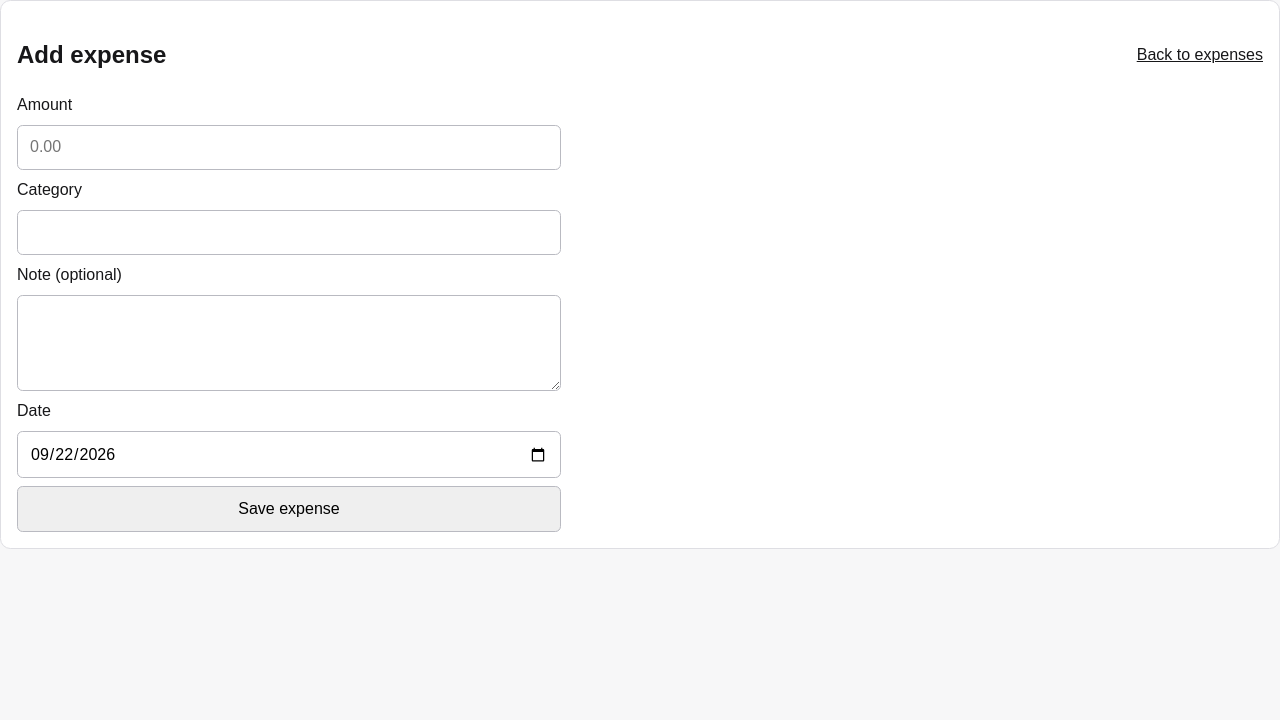
Test case: ExpenseForm › maps backend general and field errors
The width and height of the screenshot is (1280, 720).
Type "999999999999999.00" into the field labelled "Amount" at [289, 147], box [17, 125, 561, 170]
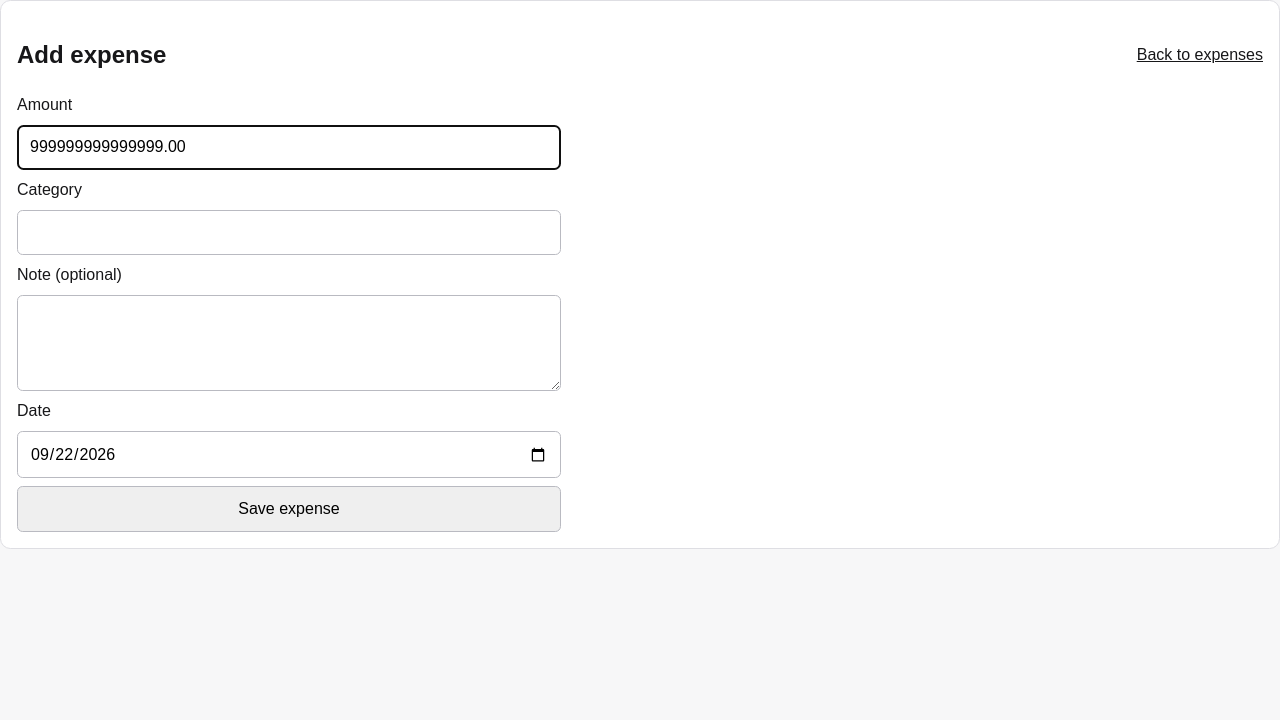
Type "Food" into the field labelled "Category" at [289, 233], box [17, 210, 561, 255]
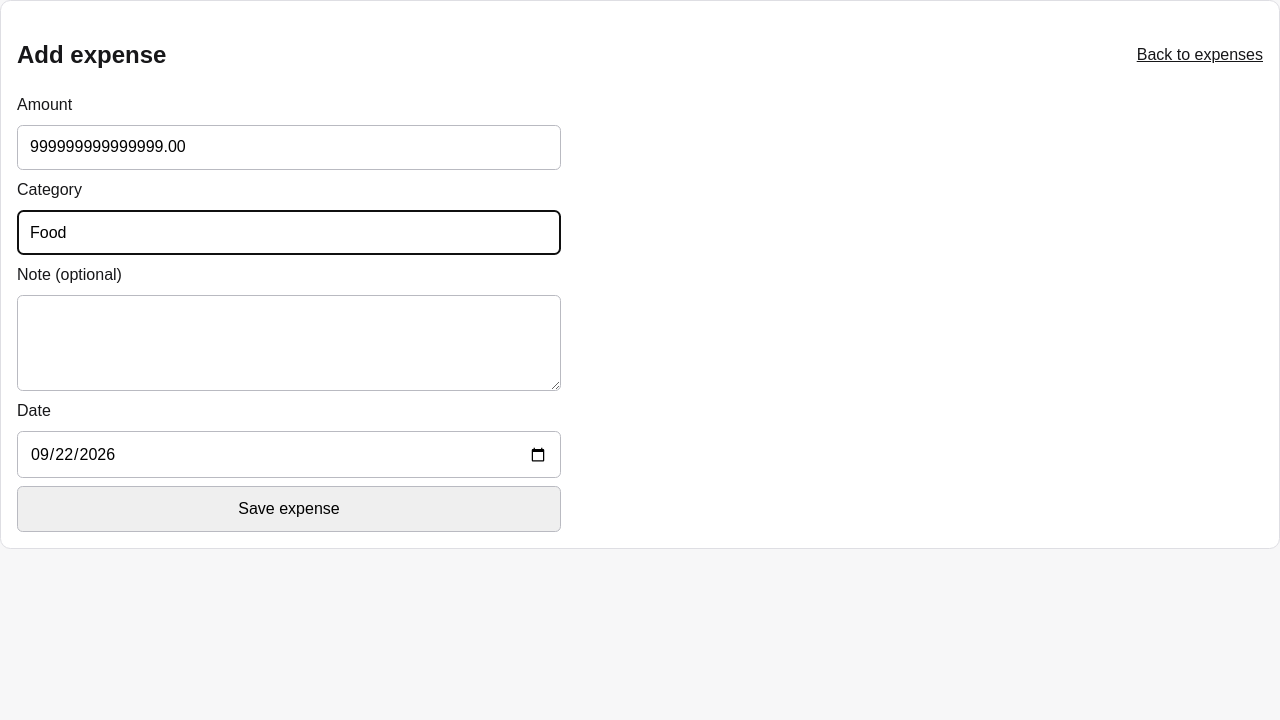
Type "Lunch" into the text box labelled "Note (optional)" at [289, 343], box [17, 295, 561, 391]
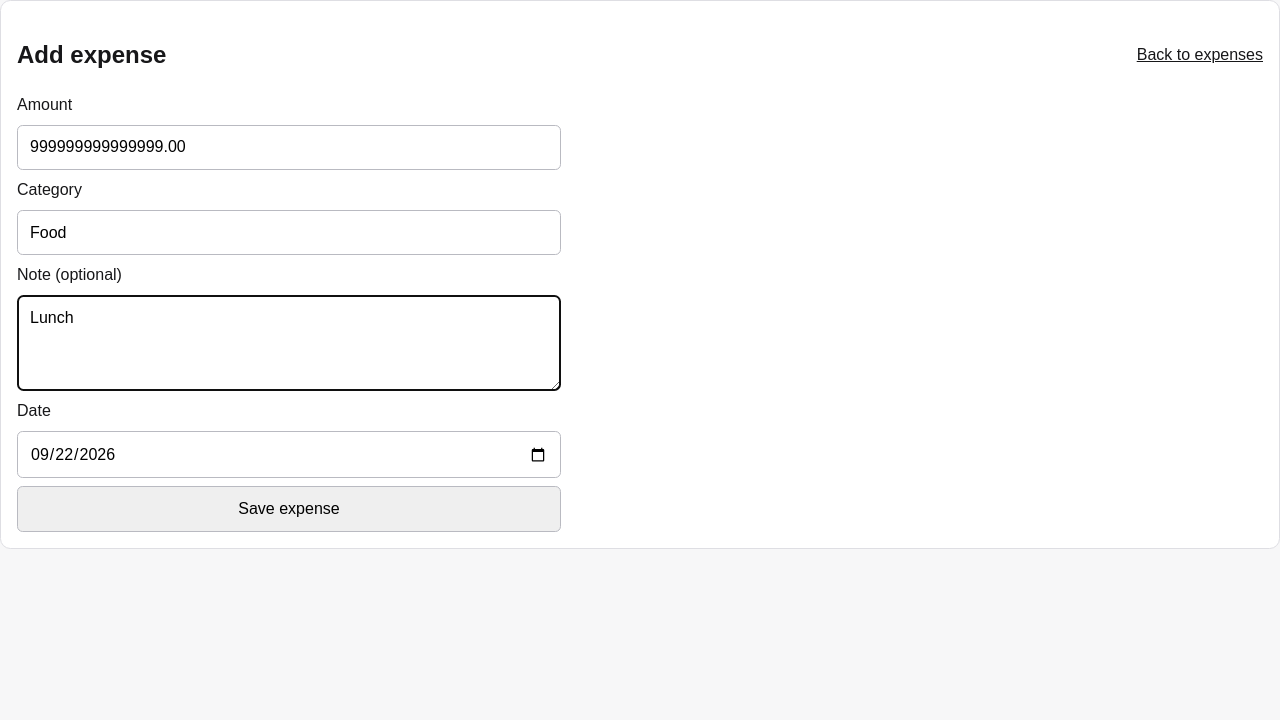
Click the button "Save expense" at [289, 509], box [17, 486, 561, 532]
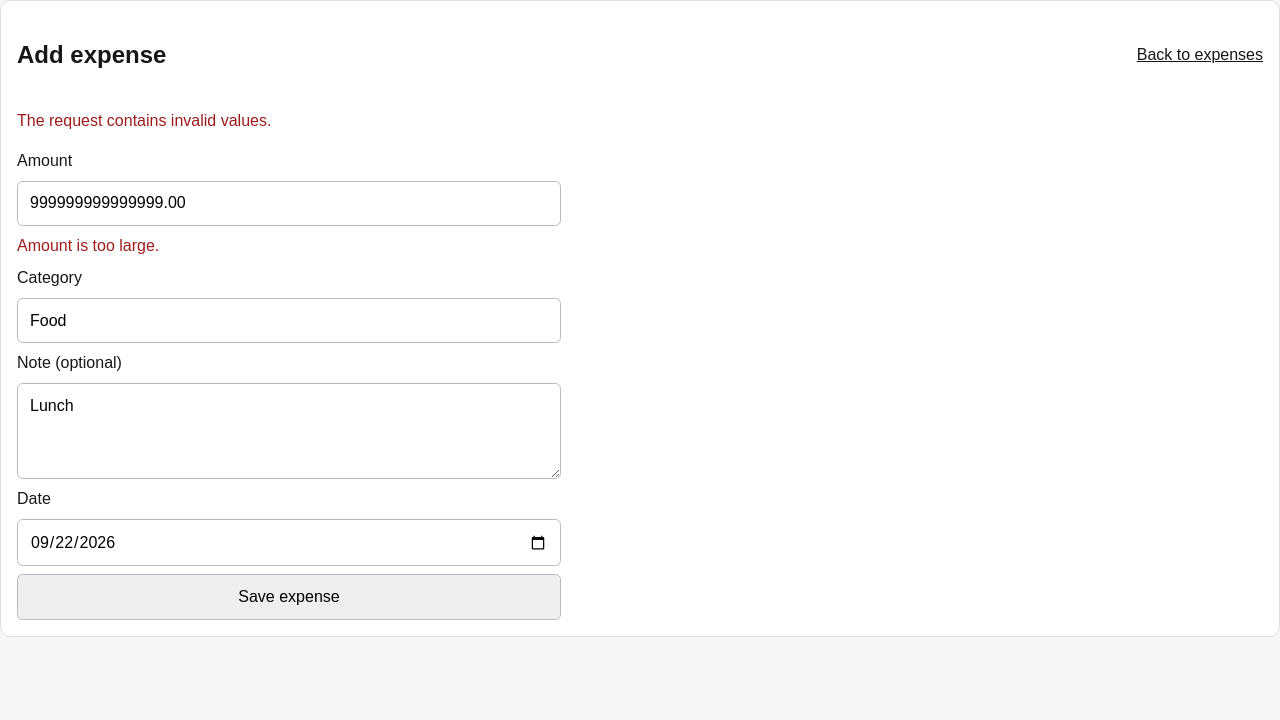
Expected: the message reads "The request contains invalid values.", [17, 112, 271, 129]
Expected: the text "Amount is too large." is shown, [17, 237, 159, 254]
